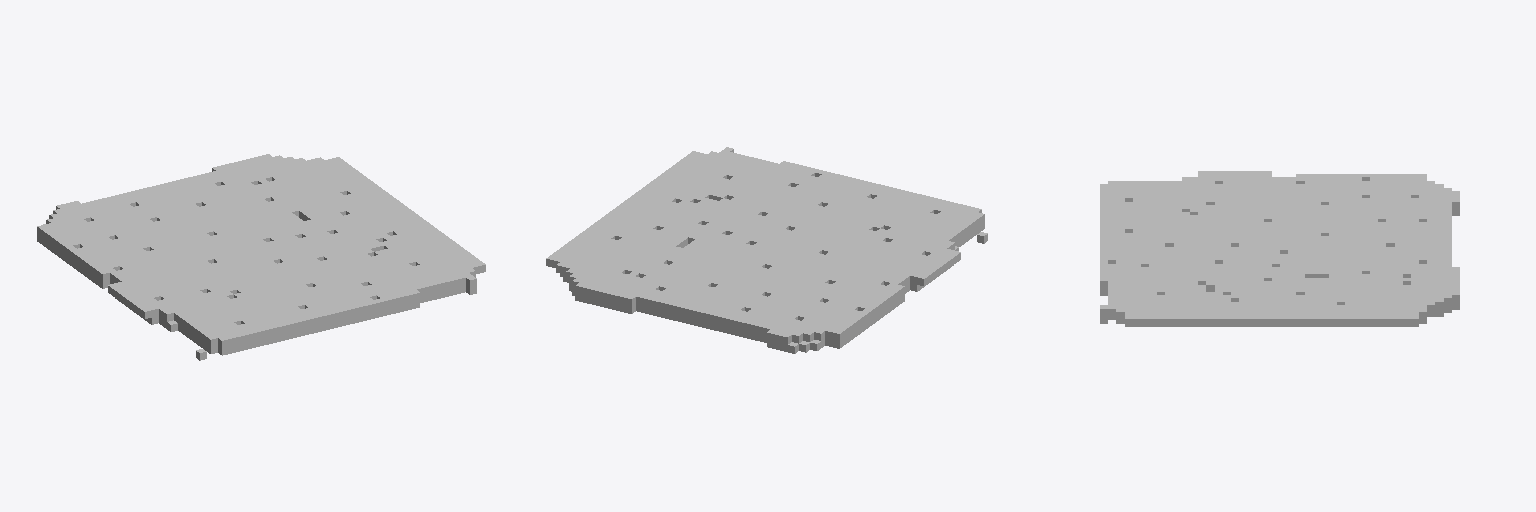
File: lava.obj
The picture shows the model from 3 angles: view 1: azimuth 30°, elevation 25°; view 2: azimuth 150°, elevation 25°; view 3: azimuth 270°, elevation 25°; orthographic projection.
Parts seen in each view (by area): view 1: object 1; view 2: object 1; view 3: object 1.
Part boxes in pixels (x1,y1,x2,y2): object 1: (37, 154, 485, 360); object 1: (546, 147, 987, 353); object 1: (1100, 171, 1459, 326).
Size of the model in its own units: 4.3 by 0.3 by 4.4.